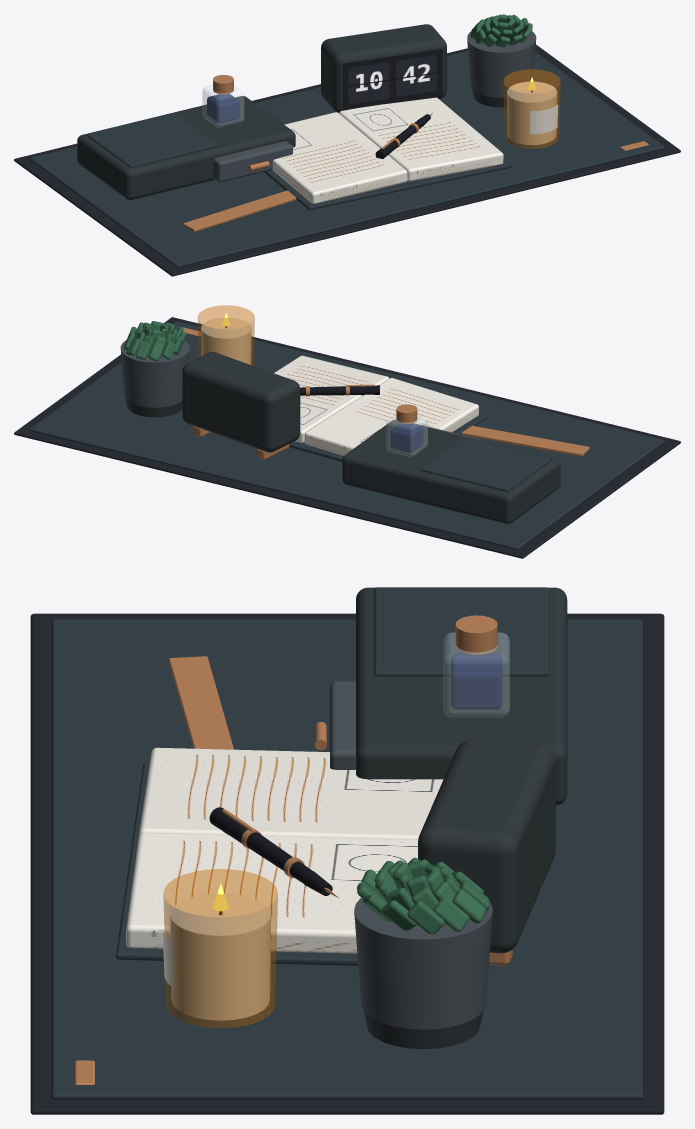
The model's file is atelier-decor-stationery-obsidian.glb.
3 views of the same model, one above another, from view 1: azimuth 30°, elevation 25°; view 2: azimuth 150°, elevation 25°; view 3: azimuth 270°, elevation 25° (orthographic). The views are drawn at different scales.
Bounding box in the file's own units: 0.78 × 0.1226 × 0.4201.
15 materials, 2 textured.
